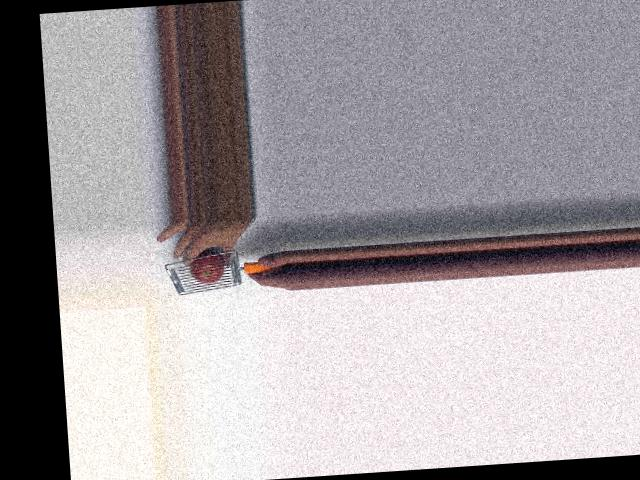tomato: (189, 249, 226, 284)
